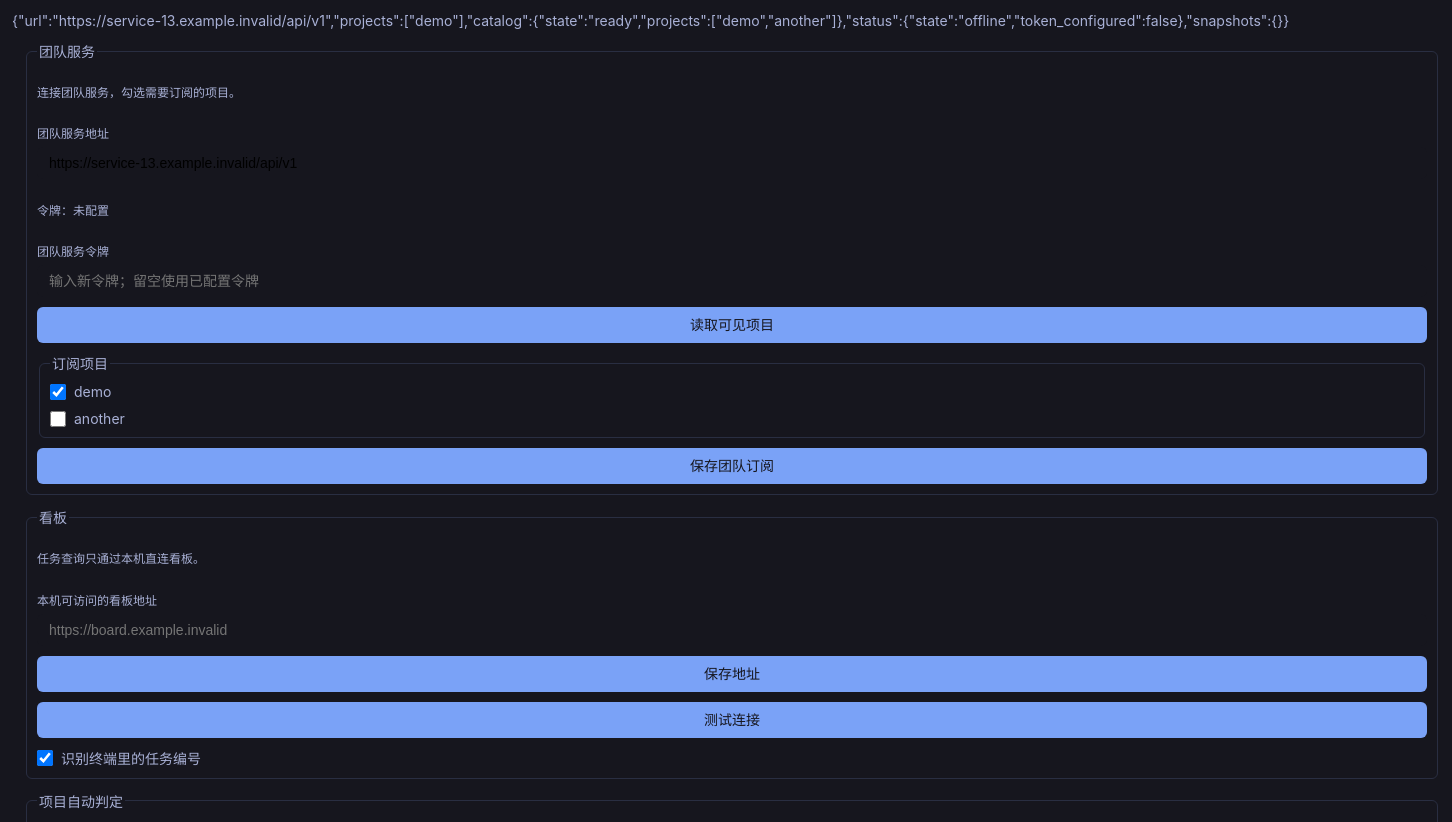
submits a settings token once then clears the input and stores only configuration
Step 1. Replace the text in the field labelled "团队服务地址" with "https://settings-service.example.invalid" → (732,163), box [37,147,1427,179]
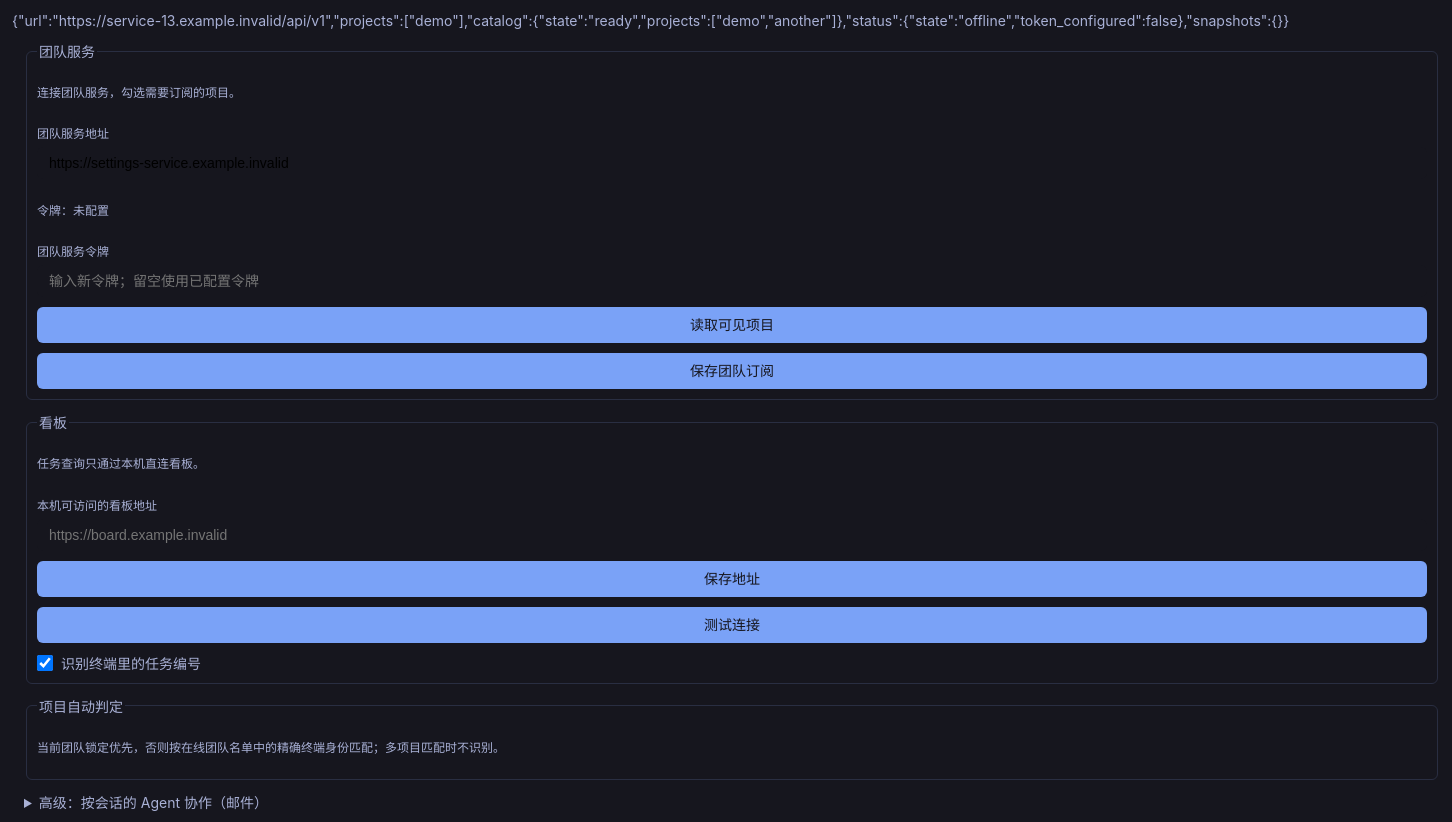
Step 2. Type "settings-secret-value" into the password field labelled "团队服务令牌" → (732,281), box [37,265,1427,297]
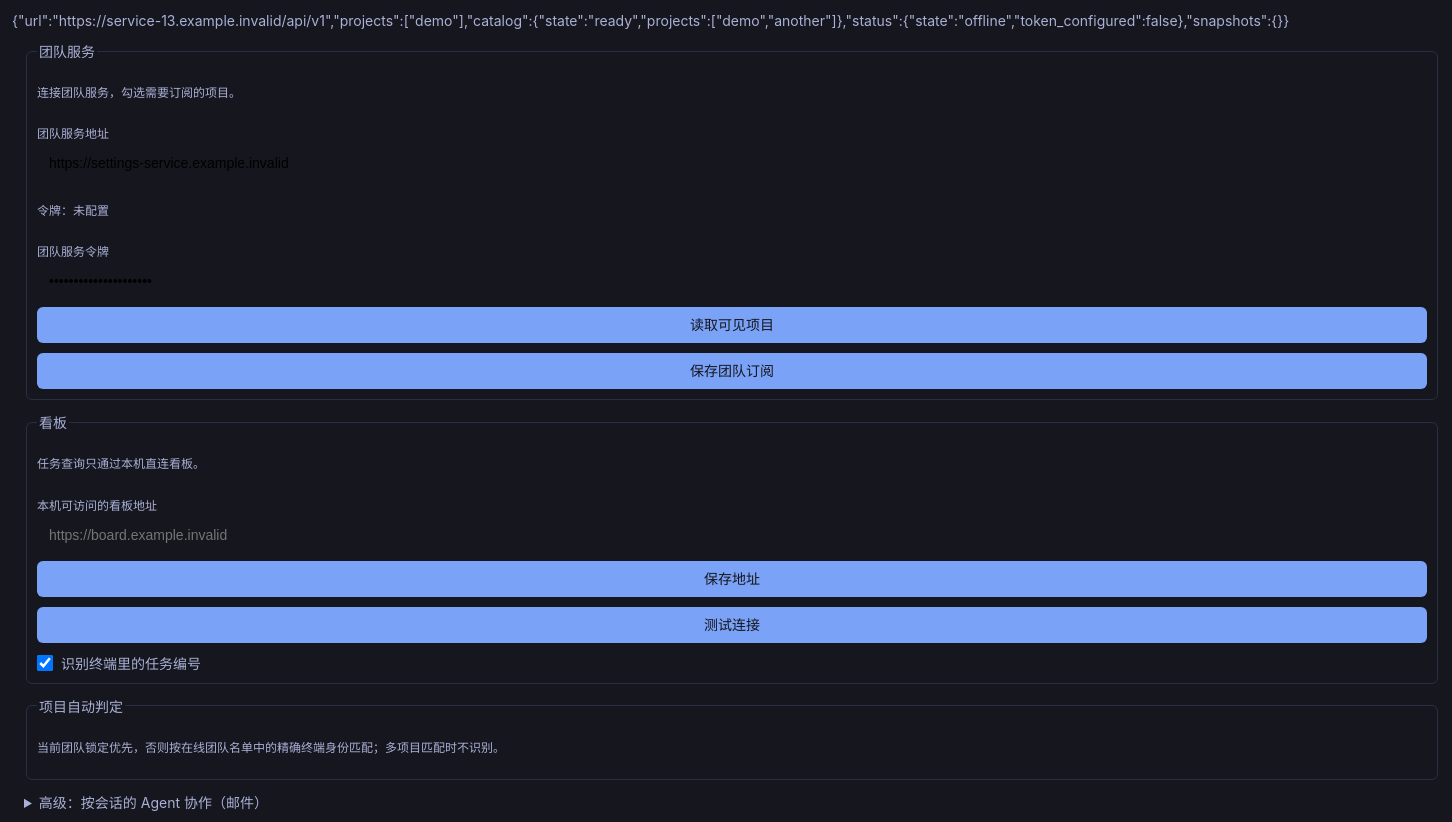
Step 3. Click the button "读取可见项目" → (732,325), box [37,307,1427,343]
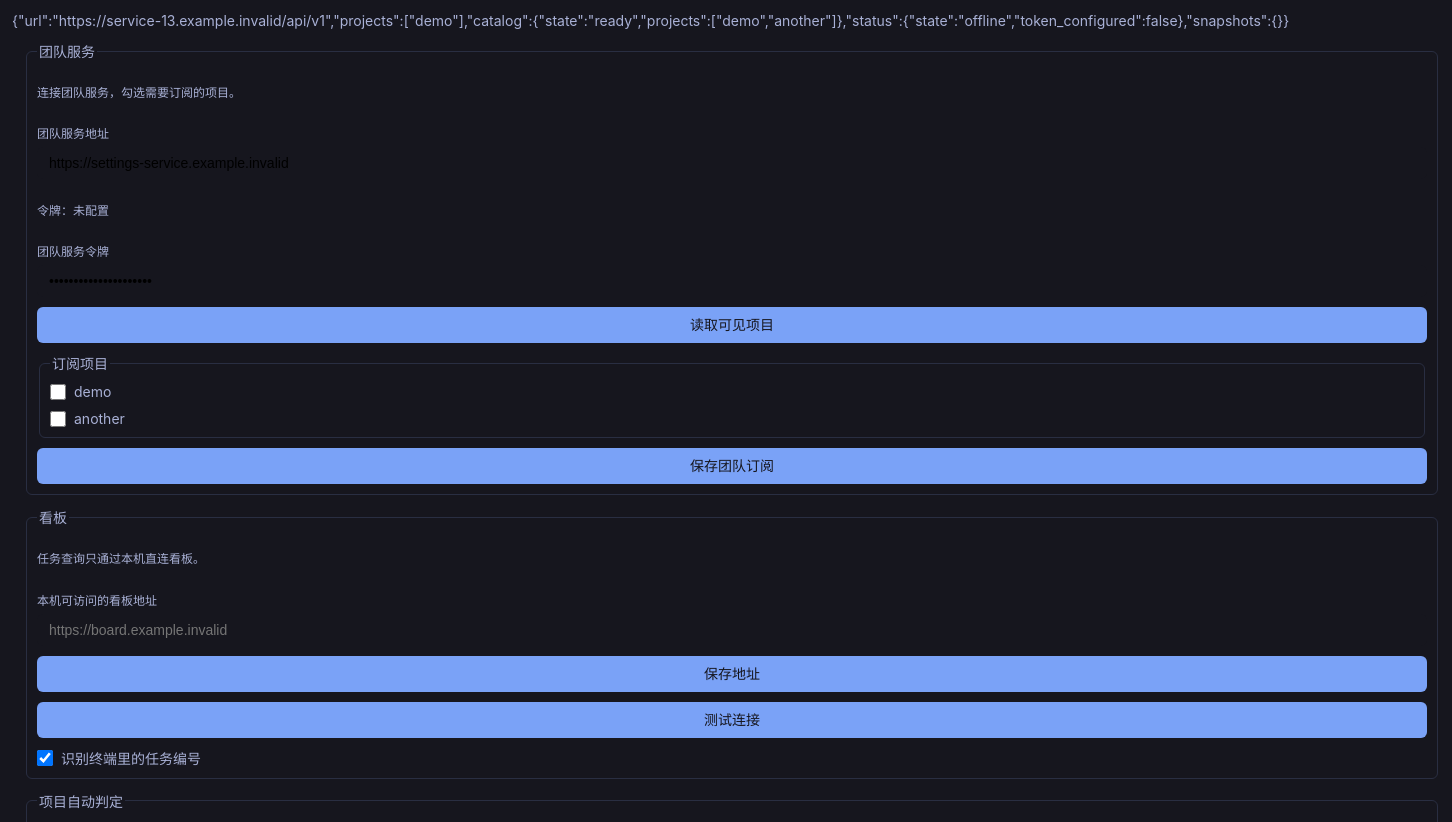
Step 4. Click the checkbox labelled "demo" → (58,392), box [50,384,66,400]
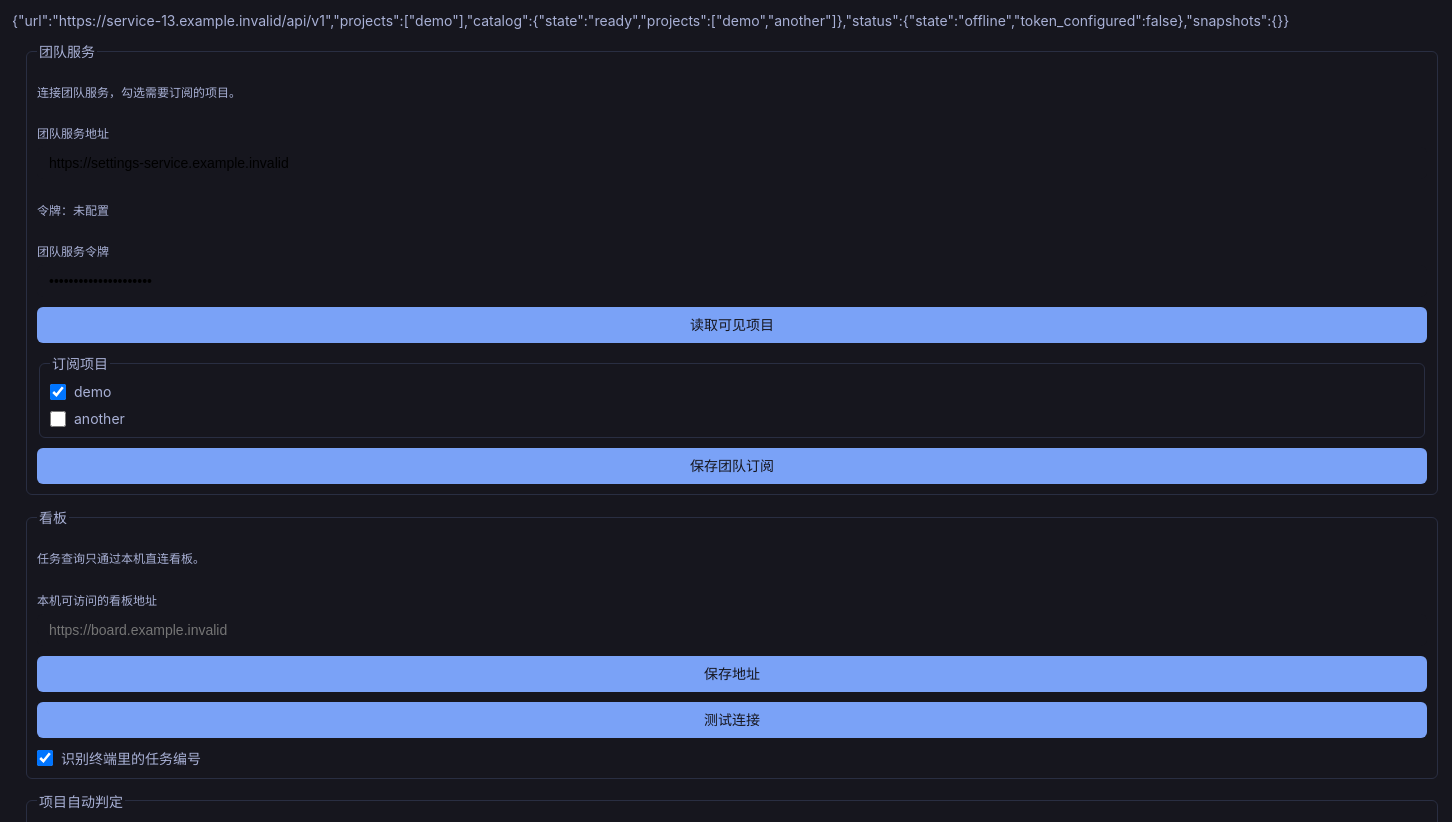
Step 5. Click the checkbox labelled "another" → (58,419), box [50,411,66,427]
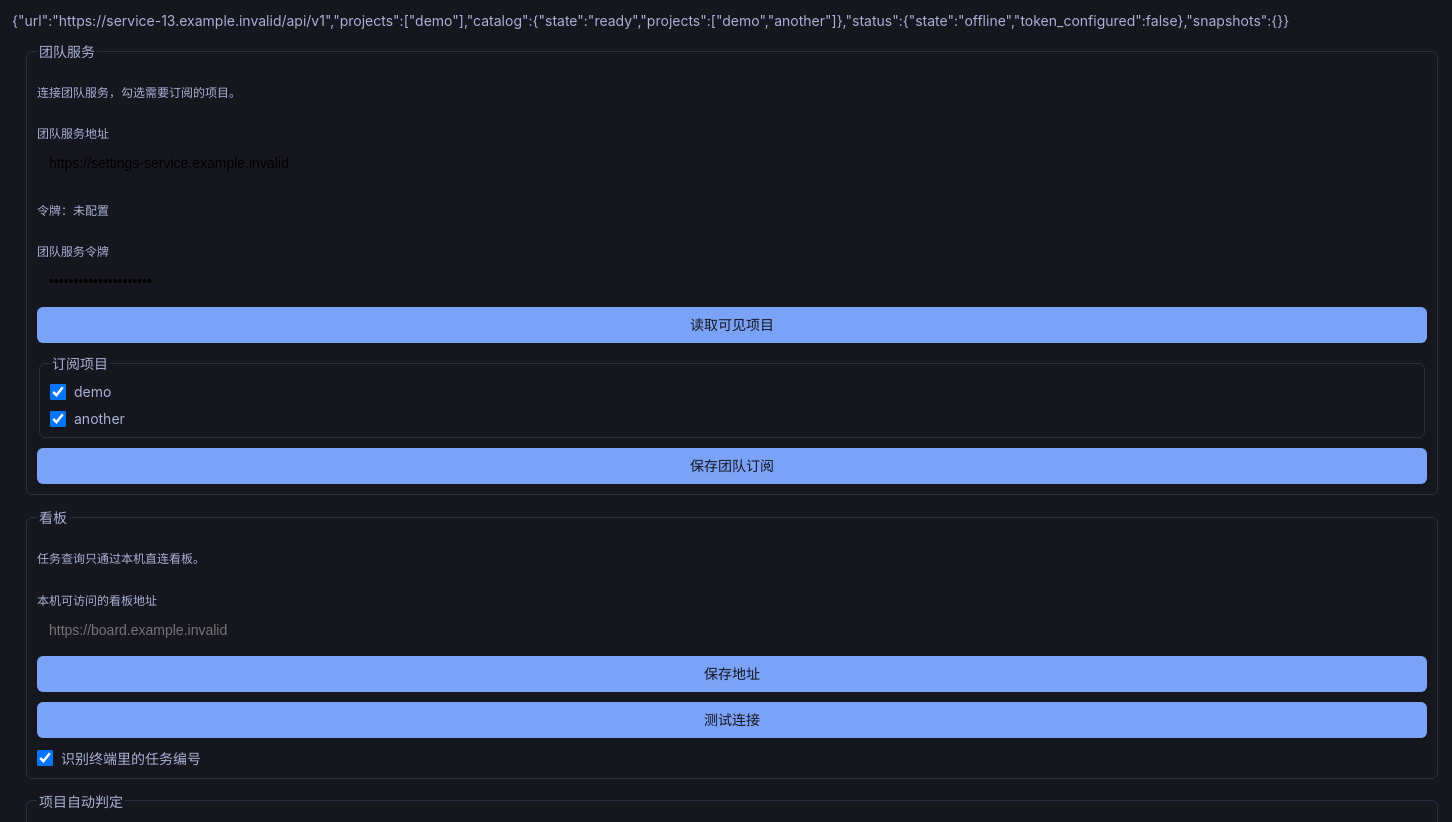
Step 6. Click the button "保存团队订阅" → (732,466), box [37,448,1427,484]
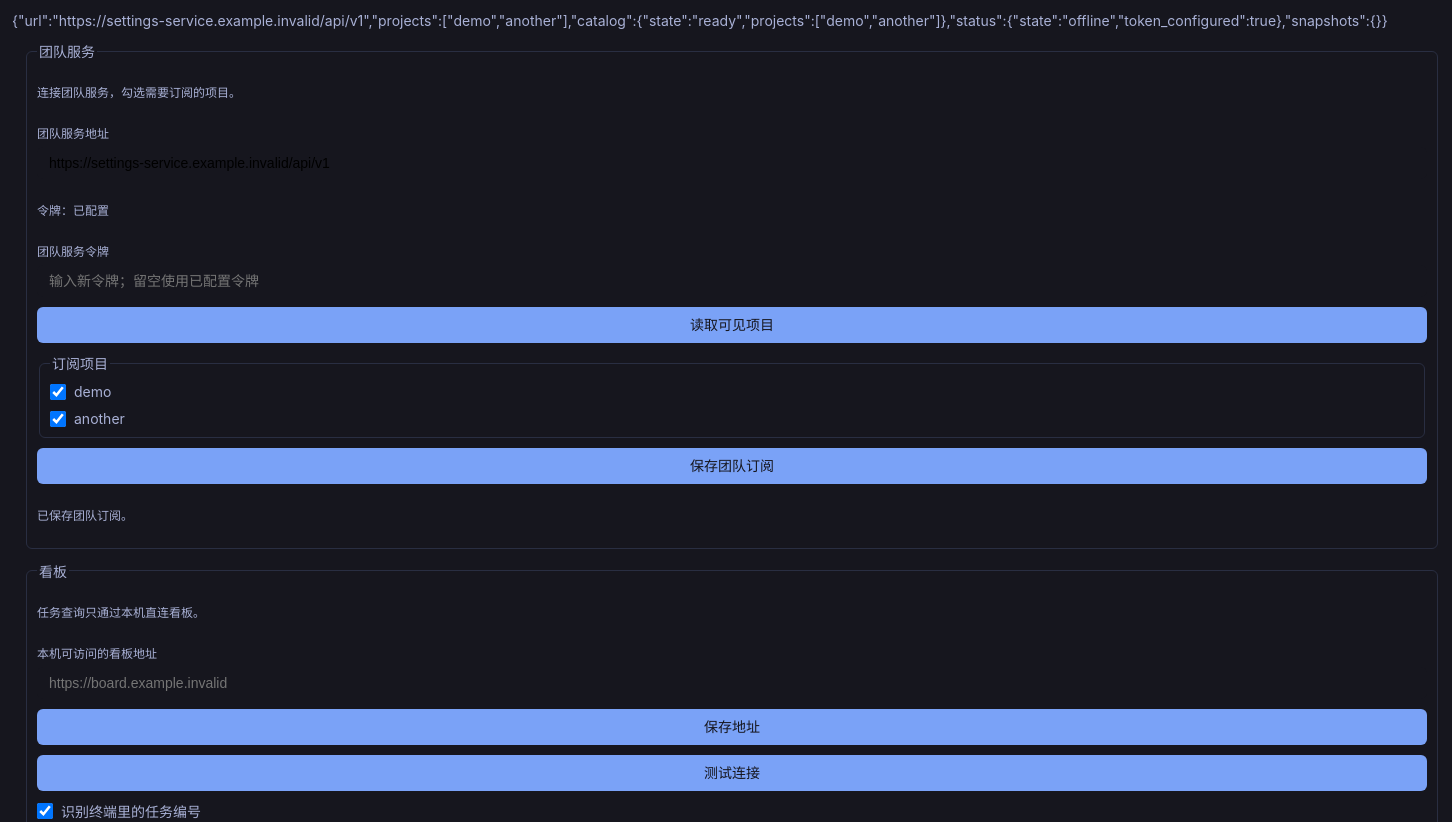
Expected: the text "已保存团队订阅。" is shown, [37,508,133,523]
Expected: the password field labelled "团队服务令牌" is empty, [37,265,1427,297]
Expected: the text "令牌：已配置" is shown, [37,203,109,218]
